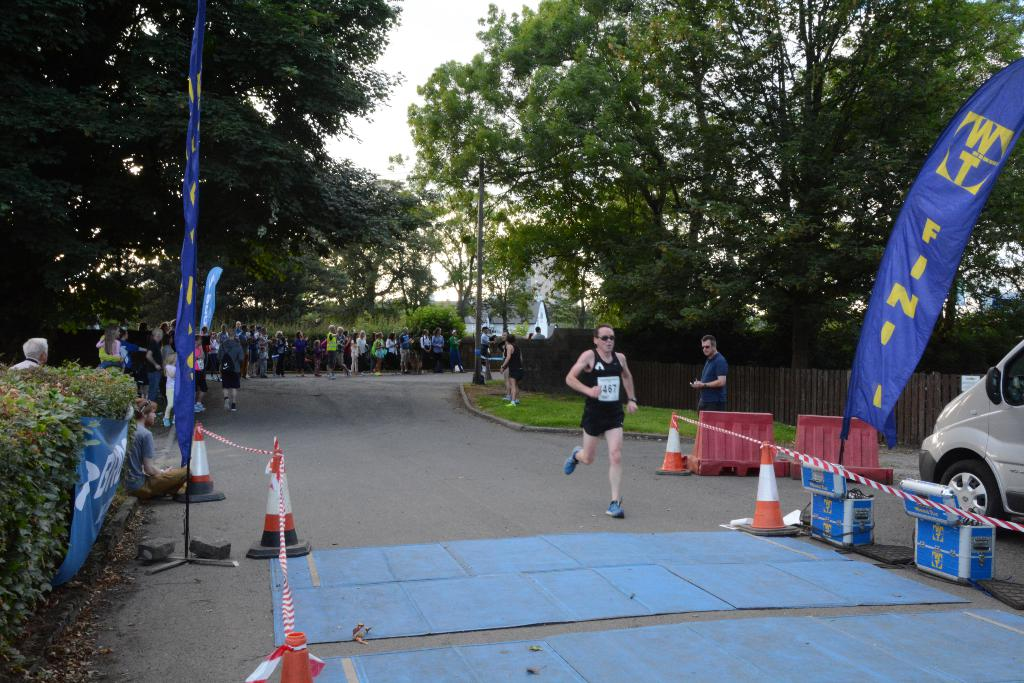Tree: (405, 0, 1023, 374), (0, 0, 415, 320), (266, 165, 430, 330)
